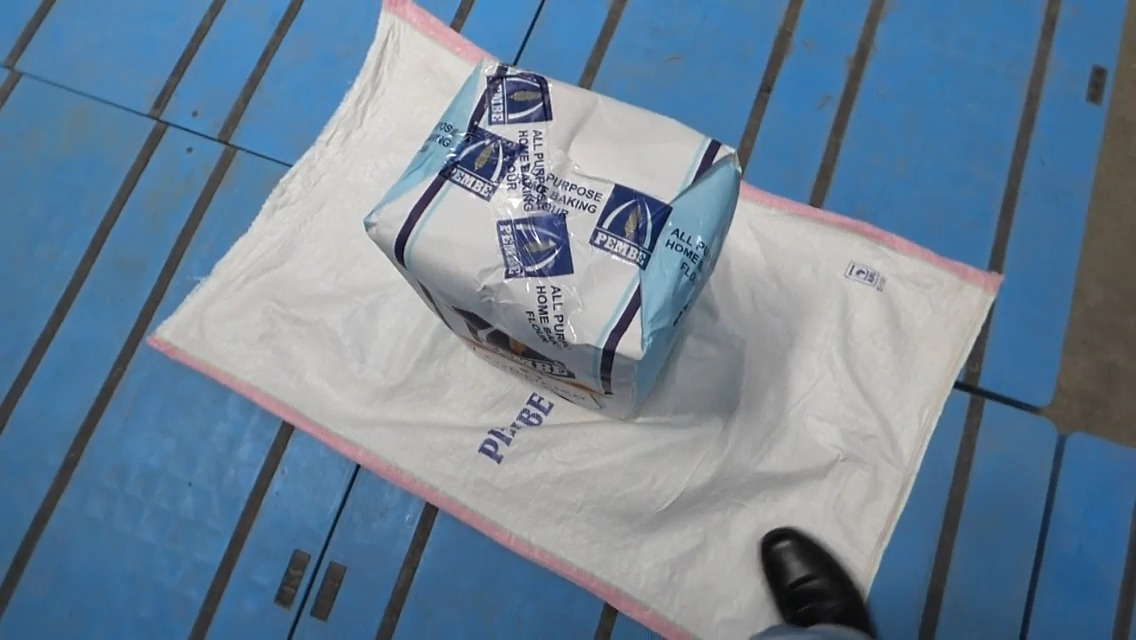wheat_flour_blue_label: (363, 70, 740, 428)
